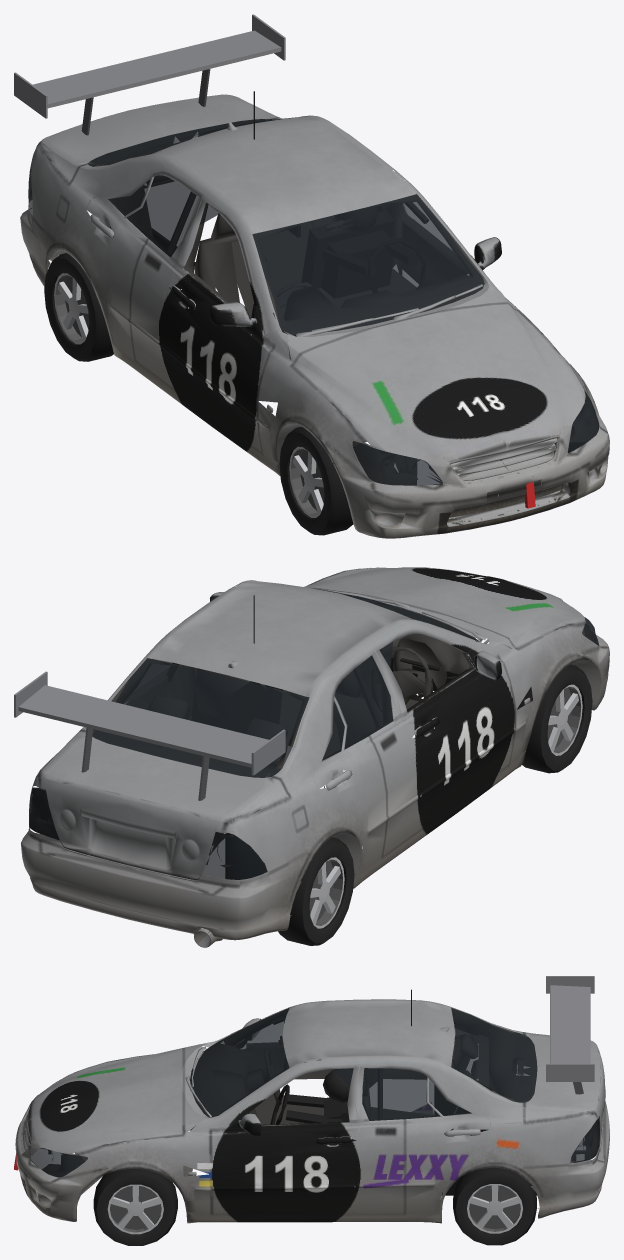
3 views of the same model, one above another, from view 1: azimuth 30°, elevation 25°; view 2: azimuth 150°, elevation 25°; view 3: azimuth 270°, elevation 25° (orthographic). The views are drawn at different scales.
Parts seen in each view (by area): view 1: body, wheel_fr, wheel_rr; view 2: body, wheel_fr, wheel_rr; view 3: body, wheel_fl, wheel_rl.
Boxes of the visible parts, <box> form: body: <box>14,14,609,538</box>; wheel_fr: <box>279,426,353,535</box>; wheel_rr: <box>44,253,113,361</box>; body: <box>14,567,609,947</box>; wheel_fr: <box>517,664,592,773</box>; wheel_rr: <box>278,837,354,945</box>; body: <box>14,976,609,1223</box>; wheel_fl: <box>93,1169,177,1245</box>; wheel_rl: <box>453,1167,536,1245</box>.
Size of the model in its own units: 1.88 by 1.72 by 4.43.
Materials: 2 (1 with a texture image).
